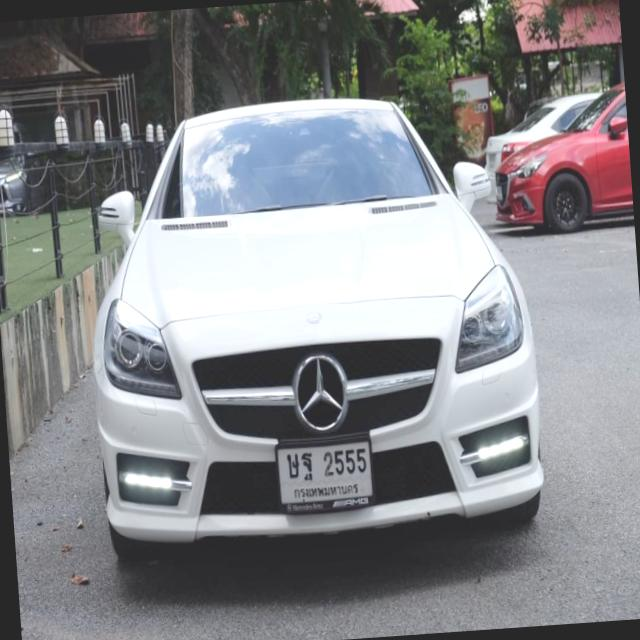license_plate: (266, 426, 382, 522)
